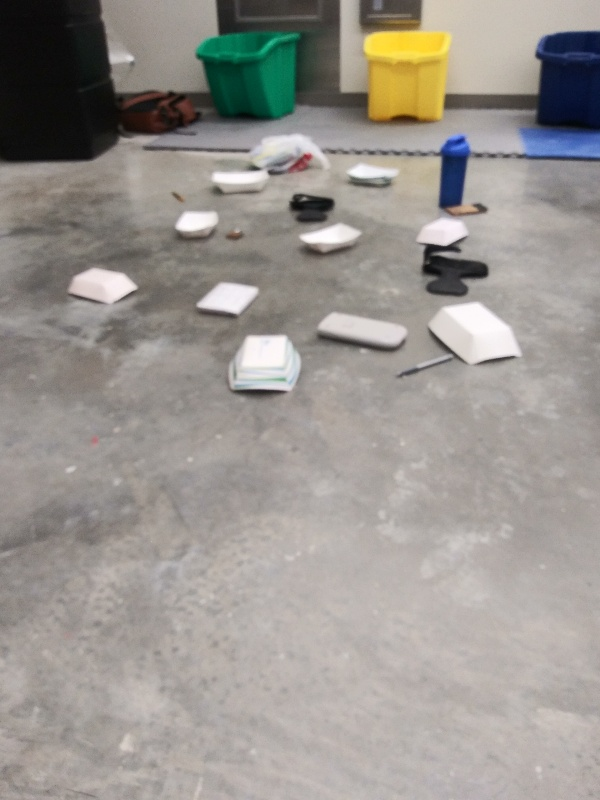plate: (422, 299, 528, 369), (223, 330, 305, 398), (64, 263, 143, 306), (295, 221, 367, 258), (208, 163, 272, 198), (172, 206, 224, 246), (414, 216, 472, 249), (345, 159, 400, 190)
